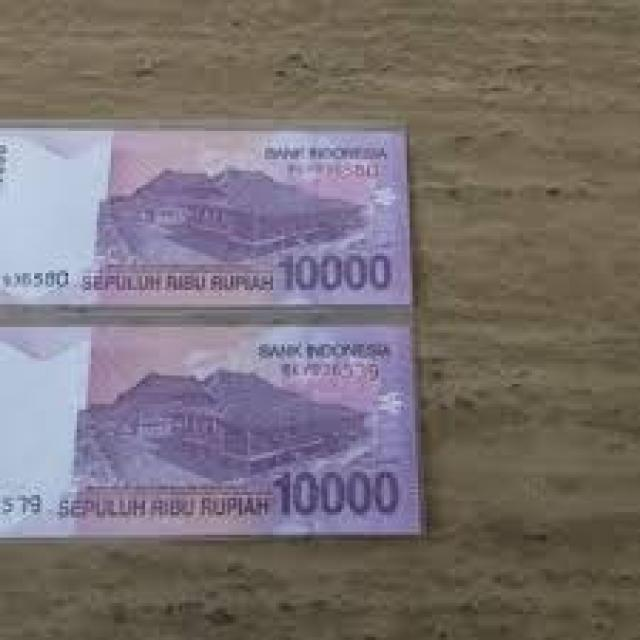sepuluh ribu rupiah: (0, 316, 418, 535), (0, 125, 407, 307)
